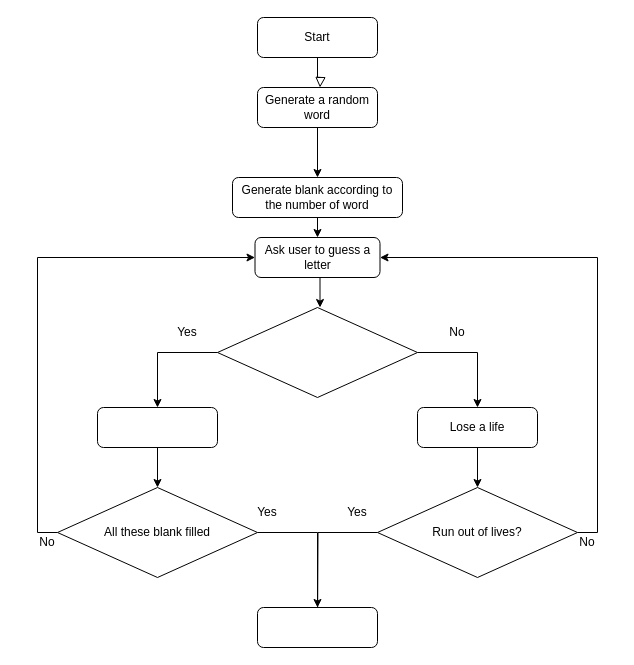
The diagram is 634 pixels wide and 665 high, and some of its shapes have lost their labels. The shapes that lost their labels are listed below. From the top down, each one's centre as x and y in pixels, then its label:
At pixel 317 352: "Is the guess letter exist in the word?".
At pixel 157 427: "Replace the blank with letter".
At pixel 317 627: "Game Over".
